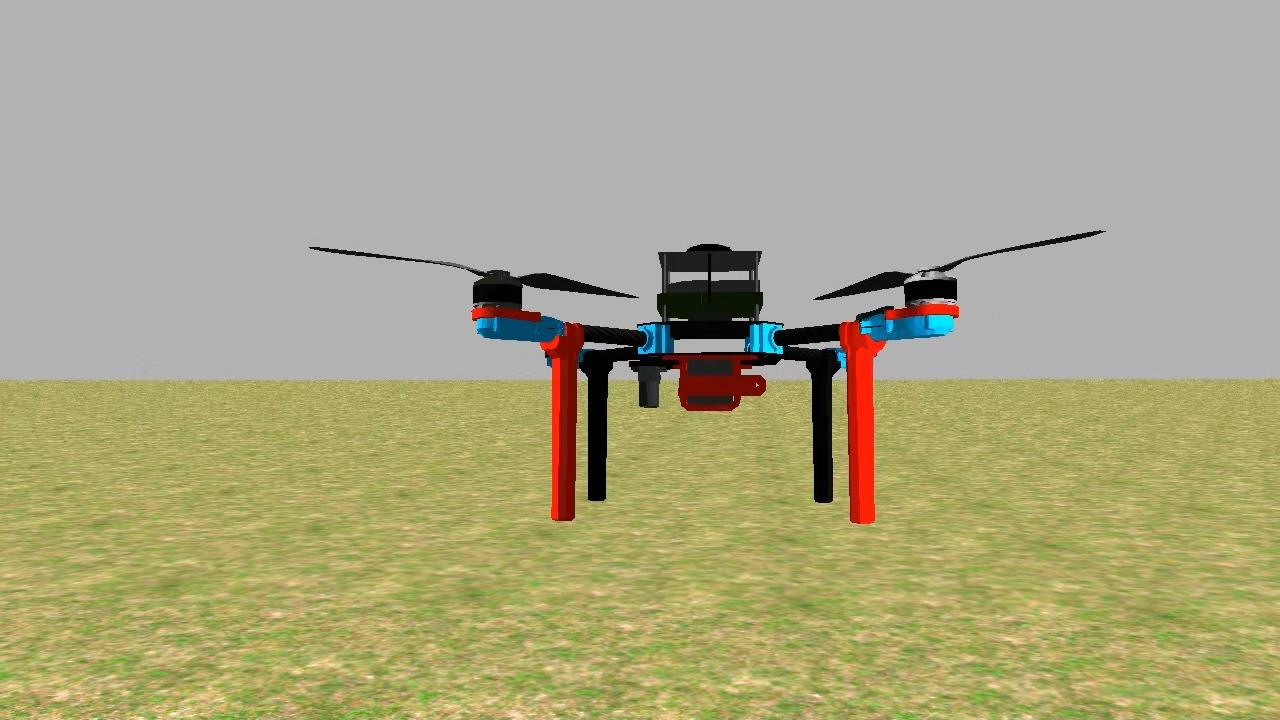UAV: (449, 227, 979, 546)
